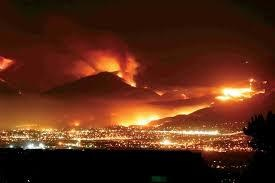fire: (98, 56, 137, 88), (214, 78, 259, 100)
